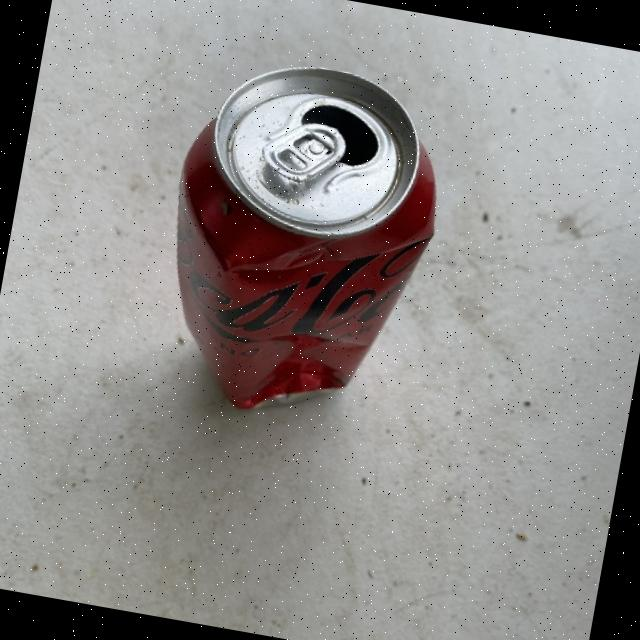metal: (140, 44, 459, 436)
